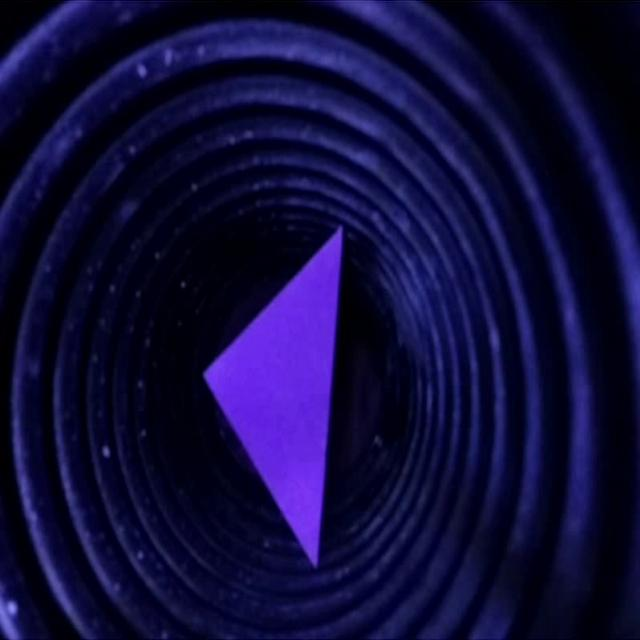obstacles: (203, 221, 337, 565)
